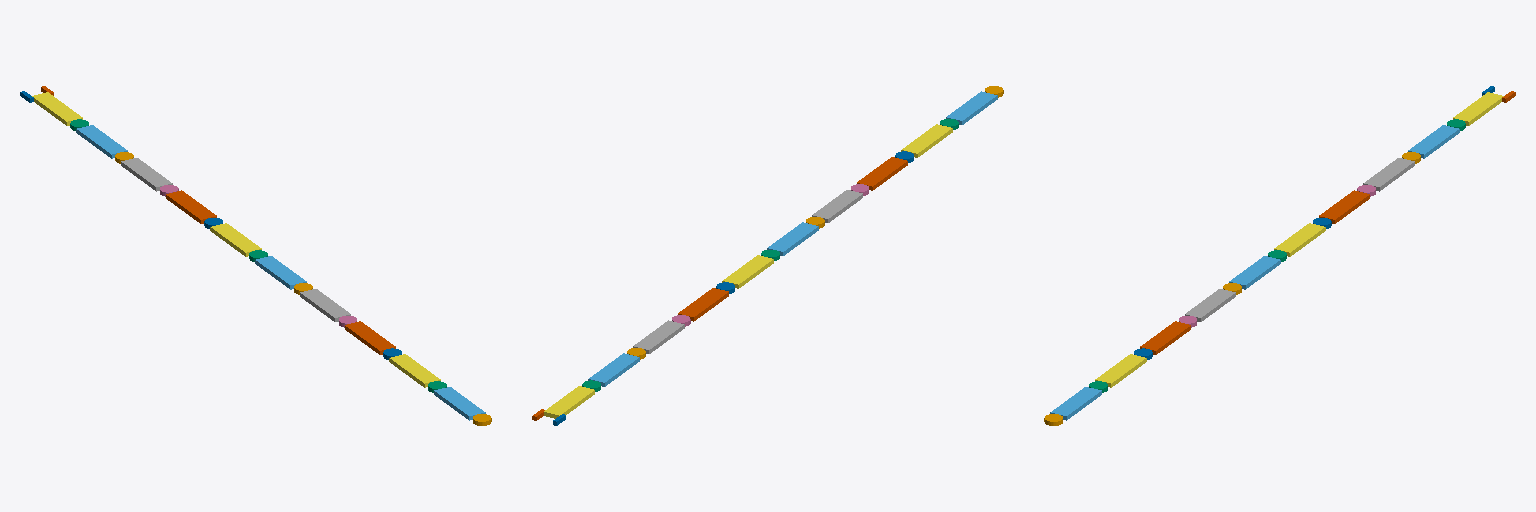
URDF robot description (planar_manipulator/10dof_manip):
<?xml version="1.0"?>
<robot name="planar_manipulator/10dof_manip">
 <link name="jlink0">
  <inertial>
    <mass value="1"/>
    <inertia ixx="0.0108333333333" ixy="0" ixz="0" iyy="0.0108333333333" iyz="0" izz="0.01"/>
  </inertial>
  <visual>
    <origin rpy="0 0 1.57" xyz="0 0 0"/>
    <geometry>
      <cylinder length="0.1" radius="0.2"/>
    </geometry>
  </visual>
  <collision>
    <origin rpy="0 0 1.57" xyz="0 0 0"/>
    <geometry>
      <cylinder length="0.1" radius="0.2"/>
    </geometry>
  </collision>
 </link>

 <link name="link0">
  <inertial>
    <mass value="1"/>
    <inertia ixx="0.0141666666667" ixy="0" ixz="0" iyy="0.200833333333" iyz="0" izz="0.188333333333"/>
  </inertial>
  <visual>
    <origin rpy="0 0 0" xyz="0 0.95 0"/>
    <geometry>
      <box size="0.4 1.5 0.1"/>
    </geometry>
  </visual>
  <collision>
    <origin rpy="0 0 0" xyz="0 0.95 0"/>
    <geometry>
      <box size="0.4 1.5 0.1"/>
    </geometry>
  </collision>
 </link>

<joint name="joint_revolute_jlink0_link0_Z" type="revolute">
  <origin rpy="0 0 0" xyz="0 0 0"/>
  <parent link="jlink0"/>
  <child link="link0"/>
  <axis xyz="0 0 1"/>
  <dynamics damping="0.01" friction="0.5"/>
  <limit lower="-3.14" upper="3.14" effort="0.01" velocity="100"/>
</joint>

 <link name="jlink1">
  <inertial>
    <mass value="1"/>
    <inertia ixx="0.0108333333333" ixy="0" ixz="0" iyy="0.0108333333333" iyz="0" izz="0.01"/>
  </inertial>
  <visual>
    <origin rpy="0 0 1.57" xyz="0 0 0"/>
    <geometry>
      <cylinder length="0.1" radius="0.2"/>
    </geometry>
  </visual>
  <collision>
    <origin rpy="0 0 1.57" xyz="0 0 0"/>
    <geometry>
      <cylinder length="0.1" radius="0.2"/>
    </geometry>
  </collision>
 </link>

<joint name="joint_fixed_link0_jlink1" type="fixed">
  <origin rpy="0 0 0" xyz="0 1.9 0"/>
  <parent link="link0"/>
  <child link="jlink1"/>
</joint>

 <link name="link1">
  <inertial>
    <mass value="1"/>
    <inertia ixx="0.0141666666667" ixy="0" ixz="0" iyy="0.200833333333" iyz="0" izz="0.188333333333"/>
  </inertial>
  <visual>
    <origin rpy="0 0 0" xyz="0 0.95 0"/>
    <geometry>
      <box size="0.4 1.5 0.1"/>
    </geometry>
  </visual>
  <collision>
    <origin rpy="0 0 0" xyz="0 0.95 0"/>
    <geometry>
      <box size="0.4 1.5 0.1"/>
    </geometry>
  </collision>
 </link>

<joint name="joint_revolute_jlink1_link1_Z" type="revolute">
  <origin rpy="0 0 0" xyz="0 0 0"/>
  <parent link="jlink1"/>
  <child link="link1"/>
  <axis xyz="0 0 1"/>
  <dynamics damping="0.01" friction="0.5"/>
  <limit lower="-3.14" upper="3.14" effort="0.01" velocity="100"/>
</joint>

 <link name="jlink2">
  <inertial>
    <mass value="1"/>
    <inertia ixx="0.0108333333333" ixy="0" ixz="0" iyy="0.0108333333333" iyz="0" izz="0.01"/>
  </inertial>
  <visual>
    <origin rpy="0 0 1.57" xyz="0 0 0"/>
    <geometry>
      <cylinder length="0.1" radius="0.2"/>
    </geometry>
  </visual>
  <collision>
    <origin rpy="0 0 1.57" xyz="0 0 0"/>
    <geometry>
      <cylinder length="0.1" radius="0.2"/>
    </geometry>
  </collision>
 </link>

<joint name="joint_fixed_link1_jlink2" type="fixed">
  <origin rpy="0 0 0" xyz="0 1.9 0"/>
  <parent link="link1"/>
  <child link="jlink2"/>
</joint>

 <link name="link2">
  <inertial>
    <mass value="1"/>
    <inertia ixx="0.0141666666667" ixy="0" ixz="0" iyy="0.200833333333" iyz="0" izz="0.188333333333"/>
  </inertial>
  <visual>
    <origin rpy="0 0 0" xyz="0 0.95 0"/>
    <geometry>
      <box size="0.4 1.5 0.1"/>
    </geometry>
  </visual>
  <collision>
    <origin rpy="0 0 0" xyz="0 0.95 0"/>
    <geometry>
      <box size="0.4 1.5 0.1"/>
    </geometry>
  </collision>
 </link>

<joint name="joint_revolute_jlink2_link2_Z" type="revolute">
  <origin rpy="0 0 0" xyz="0 0 0"/>
  <parent link="jlink2"/>
  <child link="link2"/>
  <axis xyz="0 0 1"/>
  <dynamics damping="0.01" friction="0.5"/>
  <limit lower="-3.14" upper="3.14" effort="0.01" velocity="100"/>
</joint>

 <link name="jlink3">
  <inertial>
    <mass value="1"/>
    <inertia ixx="0.0108333333333" ixy="0" ixz="0" iyy="0.0108333333333" iyz="0" izz="0.01"/>
  </inertial>
  <visual>
    <origin rpy="0 0 1.57" xyz="0 0 0"/>
    <geometry>
      <cylinder length="0.1" radius="0.2"/>
    </geometry>
  </visual>
  <collision>
    <origin rpy="0 0 1.57" xyz="0 0 0"/>
    <geometry>
      <cylinder length="0.1" radius="0.2"/>
    </geometry>
  </collision>
 </link>

<joint name="joint_fixed_link2_jlink3" type="fixed">
  <origin rpy="0 0 0" xyz="0 1.9 0"/>
  <parent link="link2"/>
  <child link="jlink3"/>
</joint>

 <link name="link3">
  <inertial>
    <mass value="1"/>
    <inertia ixx="0.0141666666667" ixy="0" ixz="0" iyy="0.200833333333" iyz="0" izz="0.188333333333"/>
  </inertial>
  <visual>
    <origin rpy="0 0 0" xyz="0 0.95 0"/>
    <geometry>
      <box size="0.4 1.5 0.1"/>
    </geometry>
  </visual>
  <collision>
    <origin rpy="0 0 0" xyz="0 0.95 0"/>
    <geometry>
      <box size="0.4 1.5 0.1"/>
    </geometry>
  </collision>
 </link>

<joint name="joint_revolute_jlink3_link3_Z" type="revolute">
  <origin rpy="0 0 0" xyz="0 0 0"/>
  <parent link="jlink3"/>
  <child link="link3"/>
  <axis xyz="0 0 1"/>
  <dynamics damping="0.01" friction="0.5"/>
  <limit lower="-3.14" upper="3.14" effort="0.01" velocity="100"/>
</joint>

 <link name="jlink4">
  <inertial>
    <mass value="1"/>
    <inertia ixx="0.0108333333333" ixy="0" ixz="0" iyy="0.0108333333333" iyz="0" izz="0.01"/>
  </inertial>
  <visual>
    <origin rpy="0 0 1.57" xyz="0 0 0"/>
    <geometry>
      <cylinder length="0.1" radius="0.2"/>
    </geometry>
  </visual>
  <collision>
    <origin rpy="0 0 1.57" xyz="0 0 0"/>
    <geometry>
      <cylinder length="0.1" radius="0.2"/>
    </geometry>
  </collision>
 </link>

<joint name="joint_fixed_link3_jlink4" type="fixed">
  <origin rpy="0 0 0" xyz="0 1.9 0"/>
  <parent link="link3"/>
  <child link="jlink4"/>
</joint>

 <link name="link4">
  <inertial>
    <mass value="1"/>
    <inertia ixx="0.0141666666667" ixy="0" ixz="0" iyy="0.200833333333" iyz="0" izz="0.188333333333"/>
  </inertial>
  <visual>
    <origin rpy="0 0 0" xyz="0 0.95 0"/>
    <geometry>
      <box size="0.4 1.5 0.1"/>
    </geometry>
  </visual>
  <collision>
    <origin rpy="0 0 0" xyz="0 0.95 0"/>
    <geometry>
      <box size="0.4 1.5 0.1"/>
    </geometry>
  </collision>
 </link>

<joint name="joint_revolute_jlink4_link4_Z" type="revolute">
  <origin rpy="0 0 0" xyz="0 0 0"/>
  <parent link="jlink4"/>
  <child link="link4"/>
  <axis xyz="0 0 1"/>
  <dynamics damping="0.01" friction="0.5"/>
  <limit lower="-3.14" upper="3.14" effort="0.01" velocity="100"/>
</joint>

 <link name="jlink5">
  <inertial>
    <mass value="1"/>
    <inertia ixx="0.0108333333333" ixy="0" ixz="0" iyy="0.0108333333333" iyz="0" izz="0.01"/>
  </inertial>
  <visual>
    <origin rpy="0 0 1.57" xyz="0 0 0"/>
    <geometry>
      <cylinder length="0.1" radius="0.2"/>
    </geometry>
  </visual>
  <collision>
    <origin rpy="0 0 1.57" xyz="0 0 0"/>
    <geometry>
      <cylinder length="0.1" radius="0.2"/>
    </geometry>
  </collision>
 </link>

<joint name="joint_fixed_link4_jlink5" type="fixed">
  <origin rpy="0 0 0" xyz="0 1.9 0"/>
  <parent link="link4"/>
  <child link="jlink5"/>
</joint>

 <link name="link5">
  <inertial>
    <mass value="1"/>
    <inertia ixx="0.0141666666667" ixy="0" ixz="0" iyy="0.200833333333" iyz="0" izz="0.188333333333"/>
  </inertial>
  <visual>
    <origin rpy="0 0 0" xyz="0 0.95 0"/>
    <geometry>
      <box size="0.4 1.5 0.1"/>
    </geometry>
  </visual>
  <collision>
    <origin rpy="0 0 0" xyz="0 0.95 0"/>
    <geometry>
      <box size="0.4 1.5 0.1"/>
    </geometry>
  </collision>
 </link>

<joint name="joint_revolute_jlink5_link5_Z" type="revolute">
  <origin rpy="0 0 0" xyz="0 0 0"/>
  <parent link="jlink5"/>
  <child link="link5"/>
  <axis xyz="0 0 1"/>
  <dynamics damping="0.01" friction="0.5"/>
  <limit lower="-3.14" upper="3.14" effort="0.01" velocity="100"/>
</joint>

 <link name="jlink6">
  <inertial>
    <mass value="1"/>
    <inertia ixx="0.0108333333333" ixy="0" ixz="0" iyy="0.0108333333333" iyz="0" izz="0.01"/>
  </inertial>
  <visual>
    <origin rpy="0 0 1.57" xyz="0 0 0"/>
    <geometry>
      <cylinder length="0.1" radius="0.2"/>
    </geometry>
  </visual>
  <collision>
    <origin rpy="0 0 1.57" xyz="0 0 0"/>
    <geometry>
      <cylinder length="0.1" radius="0.2"/>
    </geometry>
  </collision>
 </link>

<joint name="joint_fixed_link5_jlink6" type="fixed">
  <origin rpy="0 0 0" xyz="0 1.9 0"/>
  <parent link="link5"/>
  <child link="jlink6"/>
</joint>

 <link name="link6">
  <inertial>
    <mass value="1"/>
    <inertia ixx="0.0141666666667" ixy="0" ixz="0" iyy="0.200833333333" iyz="0" izz="0.188333333333"/>
  </inertial>
  <visual>
    <origin rpy="0 0 0" xyz="0 0.95 0"/>
    <geometry>
      <box size="0.4 1.5 0.1"/>
    </geometry>
  </visual>
  <collision>
    <origin rpy="0 0 0" xyz="0 0.95 0"/>
    <geometry>
      <box size="0.4 1.5 0.1"/>
    </geometry>
  </collision>
 </link>

<joint name="joint_revolute_jlink6_link6_Z" type="revolute">
  <origin rpy="0 0 0" xyz="0 0 0"/>
  <parent link="jlink6"/>
  <child link="link6"/>
  <axis xyz="0 0 1"/>
  <dynamics damping="0.01" friction="0.5"/>
  <limit lower="-3.14" upper="3.14" effort="0.01" velocity="100"/>
</joint>

 <link name="jlink7">
  <inertial>
    <mass value="1"/>
    <inertia ixx="0.0108333333333" ixy="0" ixz="0" iyy="0.0108333333333" iyz="0" izz="0.01"/>
  </inertial>
  <visual>
    <origin rpy="0 0 1.57" xyz="0 0 0"/>
    <geometry>
      <cylinder length="0.1" radius="0.2"/>
    </geometry>
  </visual>
  <collision>
    <origin rpy="0 0 1.57" xyz="0 0 0"/>
    <geometry>
      <cylinder length="0.1" radius="0.2"/>
    </geometry>
  </collision>
 </link>

<joint name="joint_fixed_link6_jlink7" type="fixed">
  <origin rpy="0 0 0" xyz="0 1.9 0"/>
  <parent link="link6"/>
  <child link="jlink7"/>
</joint>

 <link name="link7">
  <inertial>
    <mass value="1"/>
    <inertia ixx="0.0141666666667" ixy="0" ixz="0" iyy="0.200833333333" iyz="0" izz="0.188333333333"/>
  </inertial>
  <visual>
    <origin rpy="0 0 0" xyz="0 0.95 0"/>
    <geometry>
      <box size="0.4 1.5 0.1"/>
    </geometry>
  </visual>
  <collision>
    <origin rpy="0 0 0" xyz="0 0.95 0"/>
    <geometry>
      <box size="0.4 1.5 0.1"/>
    </geometry>
  </collision>
 </link>

<joint name="joint_revolute_jlink7_link7_Z" type="revolute">
  <origin rpy="0 0 0" xyz="0 0 0"/>
  <parent link="jlink7"/>
  <child link="link7"/>
  <axis xyz="0 0 1"/>
  <dynamics damping="0.01" friction="0.5"/>
  <limit lower="-3.14" upper="3.14" effort="0.01" velocity="100"/>
</joint>

 <link name="jlink8">
  <inertial>
    <mass value="1"/>
    <inertia ixx="0.0108333333333" ixy="0" ixz="0" iyy="0.0108333333333" iyz="0" izz="0.01"/>
  </inertial>
  <visual>
    <origin rpy="0 0 1.57" xyz="0 0 0"/>
    <geometry>
      <cylinder length="0.1" radius="0.2"/>
    </geometry>
  </visual>
  <collision>
    <origin rpy="0 0 1.57" xyz="0 0 0"/>
    <geometry>
      <cylinder length="0.1" radius="0.2"/>
    </geometry>
  </collision>
 </link>

<joint name="joint_fixed_link7_jlink8" type="fixed">
  <origin rpy="0 0 0" xyz="0 1.9 0"/>
  <parent link="link7"/>
  <child link="jlink8"/>
</joint>

 <link name="link8">
  <inertial>
    <mass value="1"/>
    <inertia ixx="0.0141666666667" ixy="0" ixz="0" iyy="0.200833333333" iyz="0" izz="0.188333333333"/>
  </inertial>
  <visual>
    <origin rpy="0 0 0" xyz="0 0.95 0"/>
    <geometry>
      <box size="0.4 1.5 0.1"/>
    </geometry>
  </visual>
  <collision>
    <origin rpy="0 0 0" xyz="0 0.95 0"/>
    <geometry>
      <box size="0.4 1.5 0.1"/>
    </geometry>
  </collision>
 </link>

<joint name="joint_revolute_jlink8_link8_Z" type="revolute">
  <origin rpy="0 0 0" xyz="0 0 0"/>
  <parent link="jlink8"/>
  <child link="link8"/>
  <axis xyz="0 0 1"/>
  <dynamics damping="0.01" friction="0.5"/>
  <limit lower="-3.14" upper="3.14" effort="0.01" velocity="100"/>
</joint>

 <link name="jlink9">
  <inertial>
    <mass value="1"/>
    <inertia ixx="0.0108333333333" ixy="0" ixz="0" iyy="0.0108333333333" iyz="0" izz="0.01"/>
  </inertial>
  <visual>
    <origin rpy="0 0 1.57" xyz="0 0 0"/>
    <geometry>
      <cylinder length="0.1" radius="0.2"/>
    </geometry>
  </visual>
  <collision>
    <origin rpy="0 0 1.57" xyz="0 0 0"/>
    <geometry>
      <cylinder length="0.1" radius="0.2"/>
    </geometry>
  </collision>
 </link>

<joint name="joint_fixed_link8_jlink9" type="fixed">
  <origin rpy="0 0 0" xyz="0 1.9 0"/>
  <parent link="link8"/>
  <child link="jlink9"/>
</joint>

 <link name="link9">
  <inertial>
    <mass value="1"/>
    <inertia ixx="0.0141666666667" ixy="0" ixz="0" iyy="0.200833333333" iyz="0" izz="0.188333333333"/>
  </inertial>
  <visual>
    <origin rpy="0 0 0" xyz="0 0.95 0"/>
    <geometry>
      <box size="0.4 1.5 0.1"/>
    </geometry>
  </visual>
  <collision>
    <origin rpy="0 0 0" xyz="0 0.95 0"/>
    <geometry>
      <box size="0.4 1.5 0.1"/>
    </geometry>
  </collision>
 </link>

<joint name="joint_revolute_jlink9_link9_Z" type="revolute">
  <origin rpy="0 0 0" xyz="0 0 0"/>
  <parent link="jlink9"/>
  <child link="link9"/>
  <axis xyz="0 0 1"/>
  <dynamics damping="0.01" friction="0.5"/>
  <limit lower="-3.14" upper="3.14" effort="0.01" velocity="100"/>
</joint>

 <link name="endeffectorL">
  <inertial>
    <mass value="1"/>
    <inertia ixx="0.00166666666667" ixy="0" ixz="0" iyy="0.0141666666667" iyz="0" izz="0.0141666666667"/>
  </inertial>
  <visual>
    <origin rpy="0 0 0" xyz="-0.25 0.1 0"/>
    <geometry>
      <box size="0.1 0.4 0.1"/>
    </geometry>
  </visual>
  <collision>
    <origin rpy="0 0 0" xyz="-0.25 0.1 0"/>
    <geometry>
      <box size="0.1 0.4 0.1"/>
    </geometry>
  </collision>
 </link>

 <link name="endeffectorR">
  <inertial>
    <mass value="1"/>
    <inertia ixx="0.00166666666667" ixy="0" ixz="0" iyy="0.0141666666667" iyz="0" izz="0.0141666666667"/>
  </inertial>
  <visual>
    <origin rpy="0 0 0" xyz="0.25 0.1 0"/>
    <geometry>
      <box size="0.1 0.4 0.1"/>
    </geometry>
  </visual>
  <collision>
    <origin rpy="0 0 0" xyz="0.25 0.1 0"/>
    <geometry>
      <box size="0.1 0.4 0.1"/>
    </geometry>
  </collision>
 </link>

<joint name="joint_fixed_link9_endeffectorL" type="fixed">
  <origin rpy="0 0 0" xyz="0 1.7 0"/>
  <parent link="link9"/>
  <child link="endeffectorL"/>
</joint>

<joint name="joint_fixed_link9_endeffectorR" type="fixed">
  <origin rpy="0 0 0" xyz="0 1.7 0"/>
  <parent link="link9"/>
  <child link="endeffectorR"/>
</joint>

  <klampt package_root="../../.." default_acc_max="4" >
  </klampt>
</robot>

--- What the picture shows (computed from the rendered views, not written in the file) ---
The picture shows the robot from 3 angles, left to right: view 1: azimuth 30°, elevation 25°; view 2: azimuth 150°, elevation 25°; view 3: azimuth 330°, elevation 25°; orthographic projection.
Robot: planar_manipulator/10dof_manip — 22 links, 21 joints (10 revolute, 11 fixed); root link jlink0; default pose: all joints at 0.
Visible links, largest first — view 1: link7, link0, link4, link5, link6, link8, link1, link2, link3, link9; view 2: link9, link4, link0, link7, link8, link1, link2, link5, link6, link3; view 3: link7, link0, link4, link5, link6, link8, link1, link2, link3, link9.
Boxes of the visible links, box(x1,y1,x2,y2) form: link7: box(121, 158, 172, 191); link0: box(434, 387, 485, 420); link4: box(255, 256, 306, 289); link5: box(210, 223, 261, 256); link6: box(166, 190, 216, 223); link8: box(76, 125, 127, 158); link1: box(389, 354, 440, 387); link2: box(345, 321, 395, 354); link3: box(300, 289, 350, 321); link9: box(32, 92, 82, 125); link9: box(544, 386, 594, 418); link4: box(767, 222, 818, 255); link0: box(946, 91, 997, 124); link7: box(633, 320, 684, 353); link8: box(588, 353, 639, 386); link1: box(901, 124, 952, 157); link2: box(857, 157, 907, 190); link5: box(722, 255, 773, 288); link6: box(678, 288, 728, 321); link3: box(812, 190, 862, 222); link7: box(1363, 158, 1414, 191); link0: box(1050, 387, 1101, 420); link4: box(1229, 256, 1280, 289); link5: box(1274, 223, 1325, 256); link6: box(1319, 190, 1369, 223); link8: box(1408, 125, 1459, 158); link1: box(1095, 354, 1146, 387); link2: box(1140, 321, 1190, 354); link3: box(1185, 289, 1235, 321); link9: box(1453, 92, 1503, 125).
Bounding box of the posed robot: 0.6 × 19.3 × 0.1 m (x, y, z).
Geometry: primitives only (box / cylinder / sphere), no mesh files.
